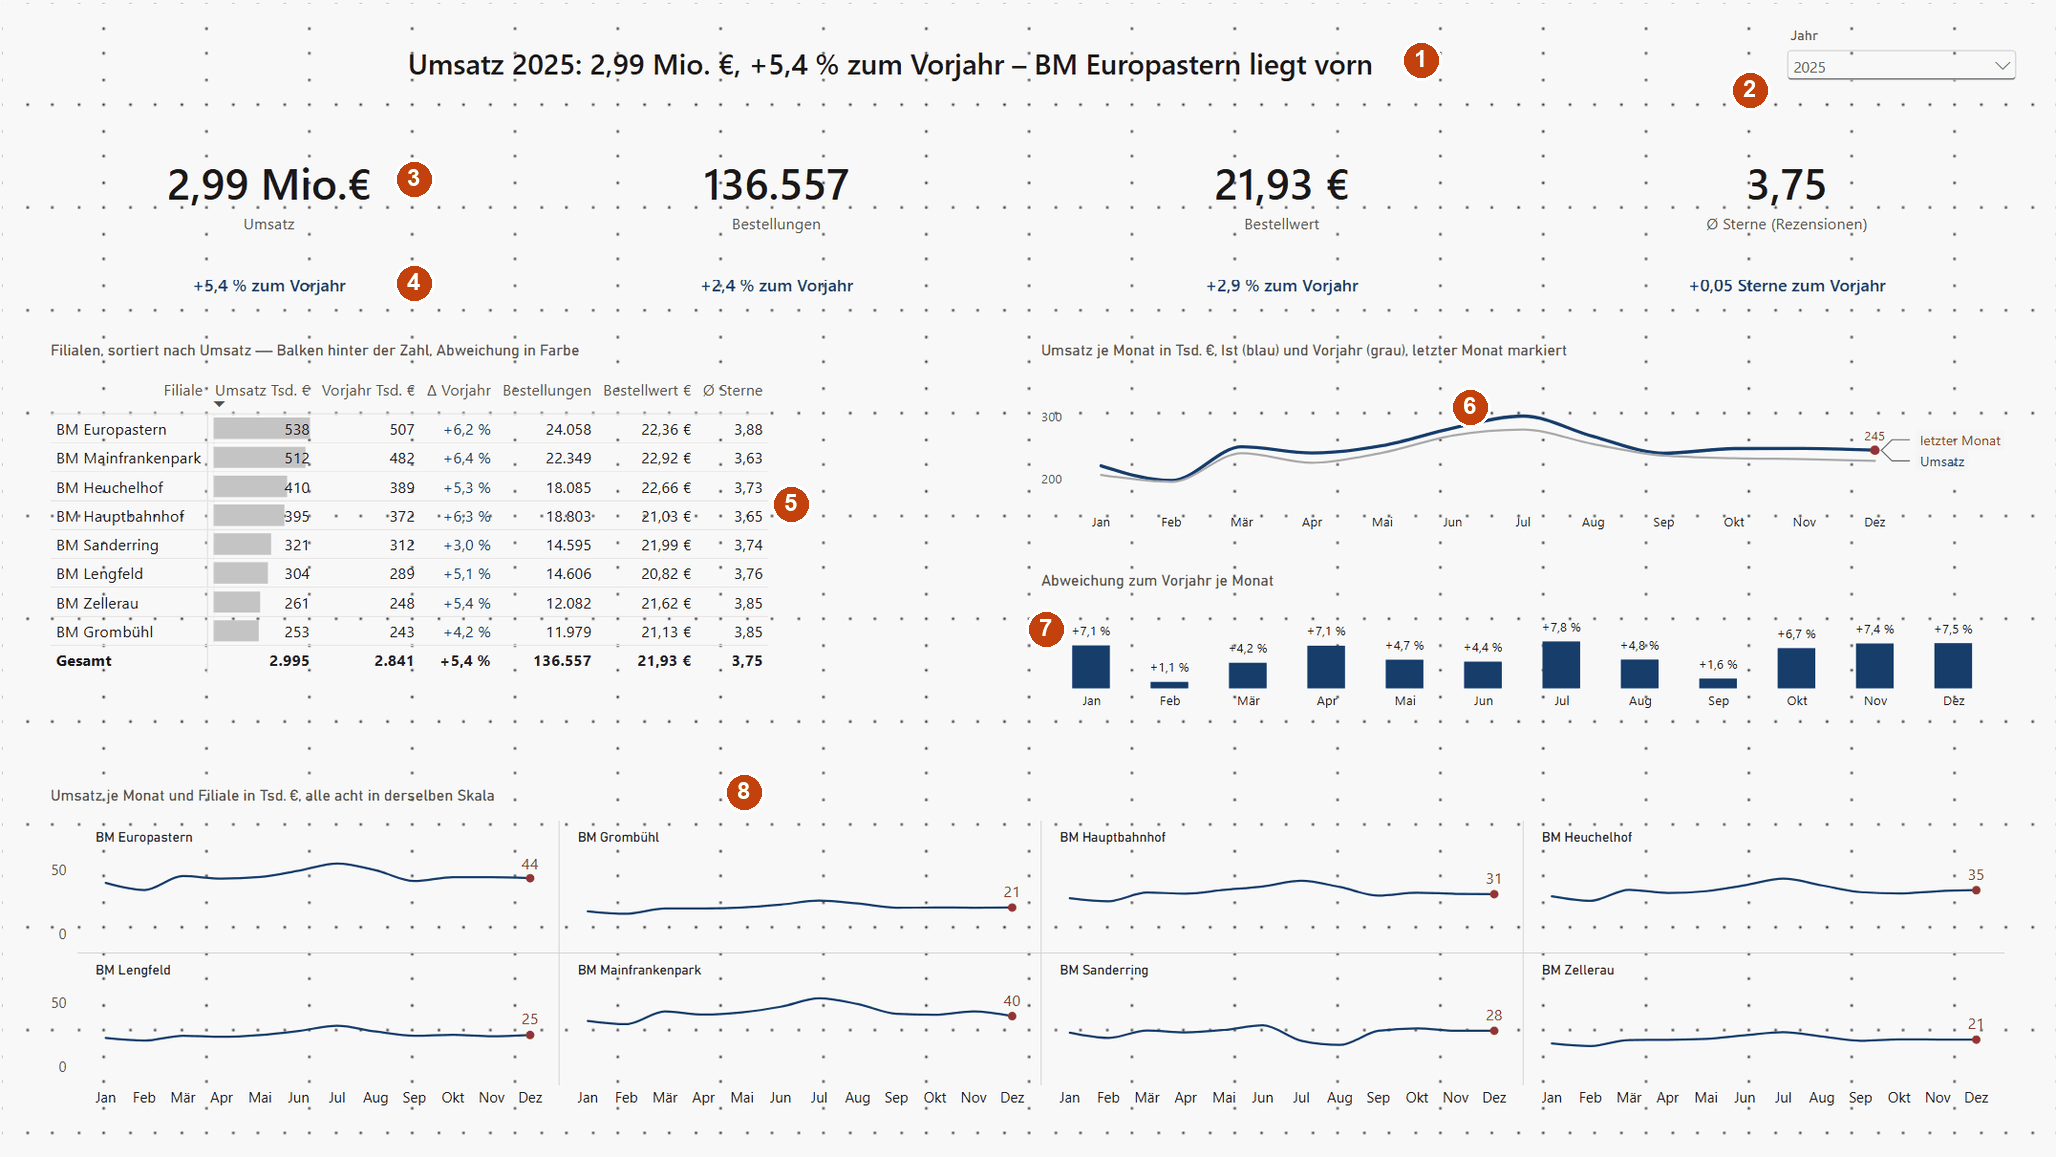

The page's visual inventory and layout, read from the dashboard file:
{"tool":"tableau","page":{"name":"Dashboard 1","canvas":[1600,1000],"ordinal":0},"visuals":[{"type":"worksheet","title":"Titel","mark":"Automatic","box":[8,8,792,80]},{"type":"worksheet","title":"Umsatz je Monat","mark":"Automatic","rows":["Calculation_5100132365418516"],"cols":["date"],"box":[800,8,792,246]},{"type":"parameter","param":"[Parameters].[Parameter 5100132363096068]","box":[1432,8,160,52]},{"type":"worksheet","title":"Karte Umsatz","mark":"Automatic","box":[8,88,198,166]},{"type":"worksheet","title":"Karte Bestellungen","mark":"Automatic","box":[206,88,198,166]},{"type":"worksheet","title":"Karte Bestellwert","mark":"Automatic","box":[404,88,198,166]},{"type":"worksheet","title":"Karte Sterne","mark":"Automatic","box":[602,88,198,166]},{"type":"worksheet","title":"Filialen Umsatz","mark":"Automatic","rows":["branch_name"],"cols":["Calculation_5100132365291538"],"box":[8,254,297,246]},{"type":"worksheet","title":"Filialen Kennzahlen","mark":"Automatic","rows":["branch_name"],"box":[305,254,495,246]},{"type":"worksheet","title":"Abweichung je Monat","mark":"Bar","rows":["Calculation_5100132363948041"],"cols":["date"],"box":[800,254,792,246]},{"type":"worksheet","title":"Filialen je Monat","mark":"Automatic","rows":["branch_name","Calculation_5100132365291538","Calculation_5100132365418516"],"cols":["date"],"box":[8,500,1584,492]}]}

Visuals, with their boxes on the page's 1600x1000 design canvas (x1, y1, x2, y2). These are canvas units, not pixel positions in the 2056x1157 screenshot, which may show the page scaled, cropped or inside an application window:
"Titel" worksheet: Rect(8, 8, 800, 88)
"Umsatz je Monat" worksheet: Rect(800, 8, 1592, 254)
parameter: Rect(1432, 8, 1592, 60)
"Karte Umsatz" worksheet: Rect(8, 88, 206, 254)
"Karte Bestellungen" worksheet: Rect(206, 88, 404, 254)
"Karte Bestellwert" worksheet: Rect(404, 88, 602, 254)
"Karte Sterne" worksheet: Rect(602, 88, 800, 254)
"Filialen Umsatz" worksheet: Rect(8, 254, 305, 500)
"Filialen Kennzahlen" worksheet: Rect(305, 254, 800, 500)
"Abweichung je Monat" worksheet (Bar marks): Rect(800, 254, 1592, 500)
"Filialen je Monat" worksheet: Rect(8, 500, 1592, 992)
